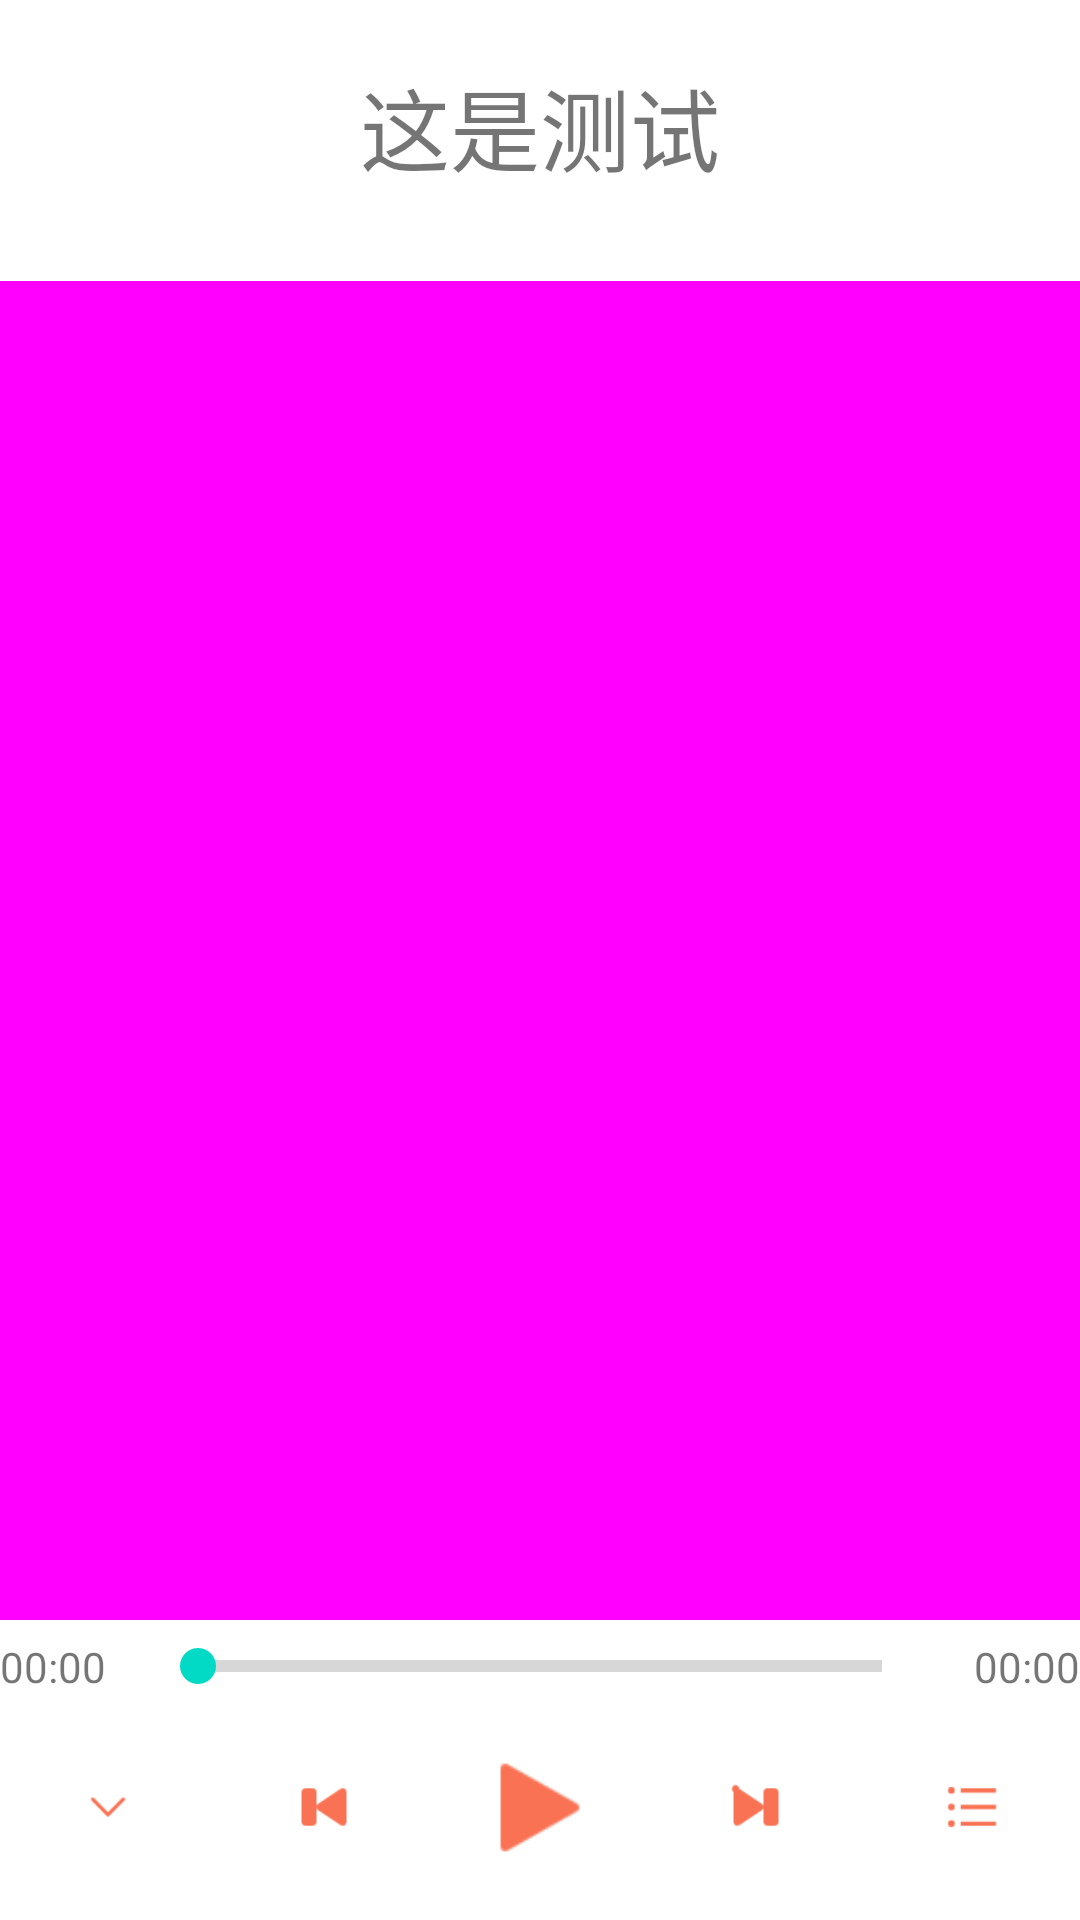

Locate icon controls on the screen. Image size 1080×1920, boxes as {"x1": x1, "y1": y1, "x2": x2, "y2": y2}.
track arrowdown: {"x1": 90, "y1": 1797, "x2": 126, "y2": 1817}
track list: {"x1": 948, "y1": 1787, "x2": 997, "y2": 1827}
track next: {"x1": 732, "y1": 1784, "x2": 779, "y2": 1826}
track play: {"x1": 500, "y1": 1763, "x2": 580, "y2": 1852}
track previous: {"x1": 301, "y1": 1788, "x2": 347, "y2": 1826}
